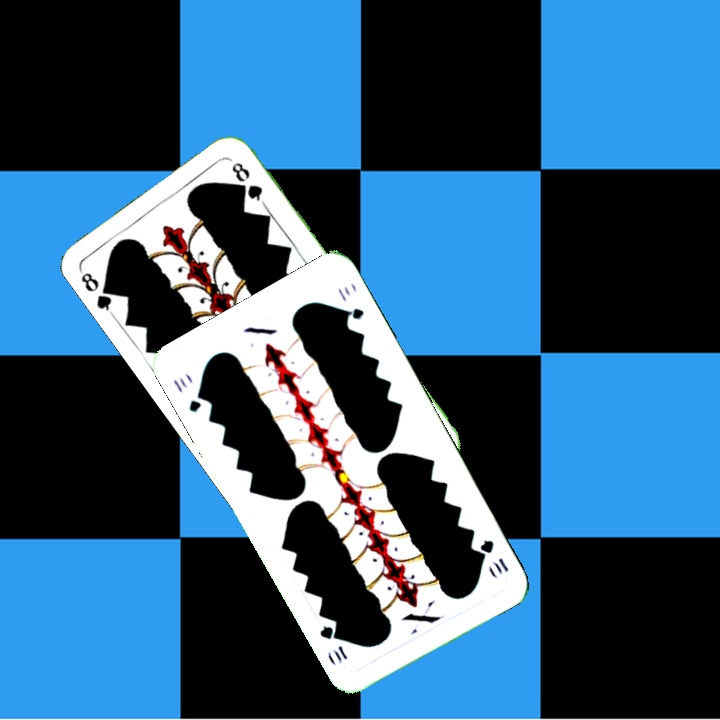G10: (169, 373, 209, 415), (475, 535, 511, 576)
G8: (76, 267, 120, 318)
